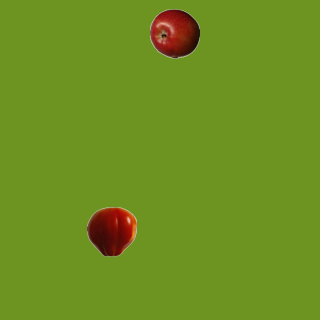Apple Braeburn: (149, 8, 199, 58)
Tomato 1: (86, 206, 136, 256)
